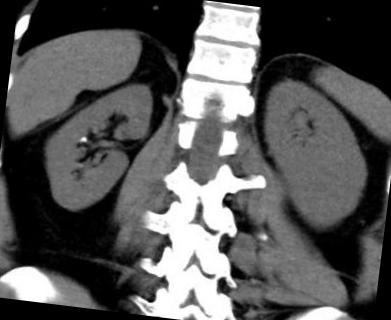Tas_Var: (78, 134, 88, 142), (77, 162, 84, 167)
